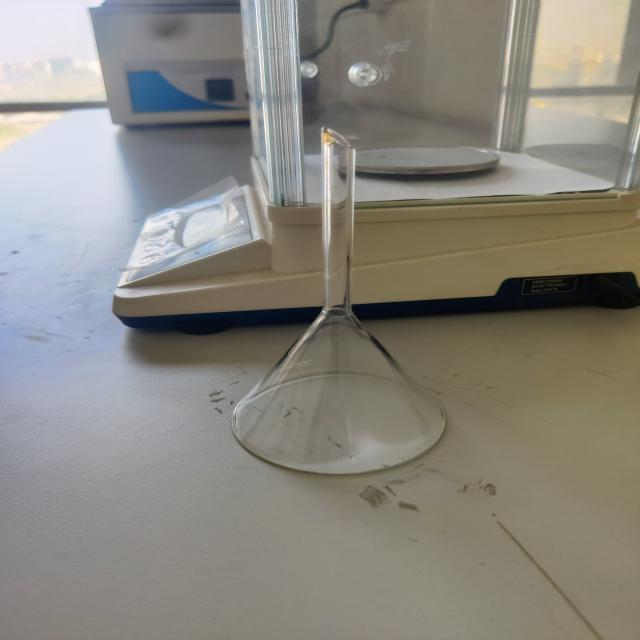Funnel: (197, 88, 473, 522)
